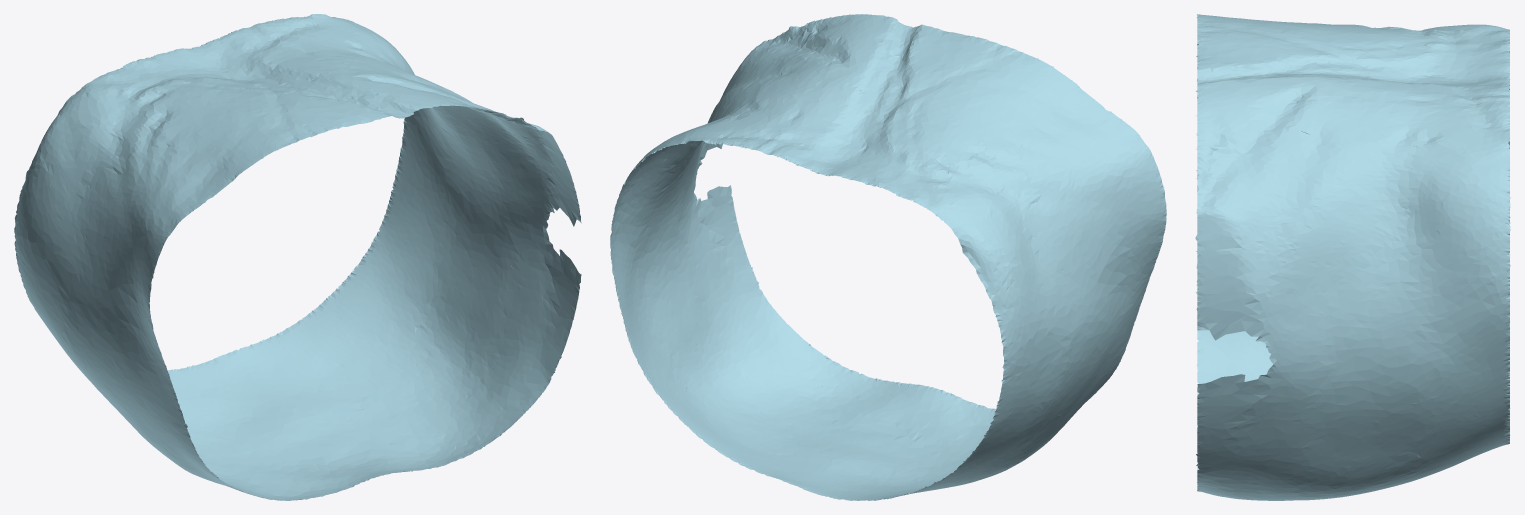
File: skin.obj
The picture shows the model from 3 angles, left to right: view 1: azimuth 30°, elevation 25°; view 2: azimuth 150°, elevation 25°; view 3: azimuth 270°, elevation 25°; orthographic projection. The views are drawn at different scales.
Parts seen in each view (by area): view 1: grp1; view 2: grp1; view 3: grp1.
Part boxes in pixels (left/top/right/bottom): grp1: left=14, top=14, right=581, bottom=500; grp1: left=610, top=14, right=1166, bottom=500; grp1: left=1195, top=14, right=1510, bottom=500.
Size of the model in its own units: 369 by 305 by 221.
